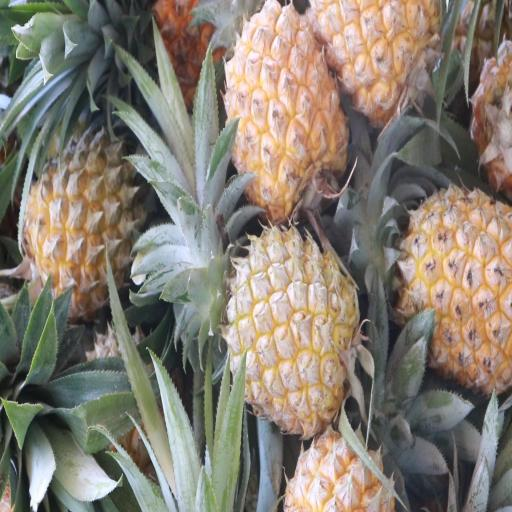------------------------------: (20, 136, 145, 314)
Pineapple - v8 v1: (231, 215, 362, 429), (219, 3, 347, 213), (401, 172, 512, 387), (317, 0, 446, 116)
